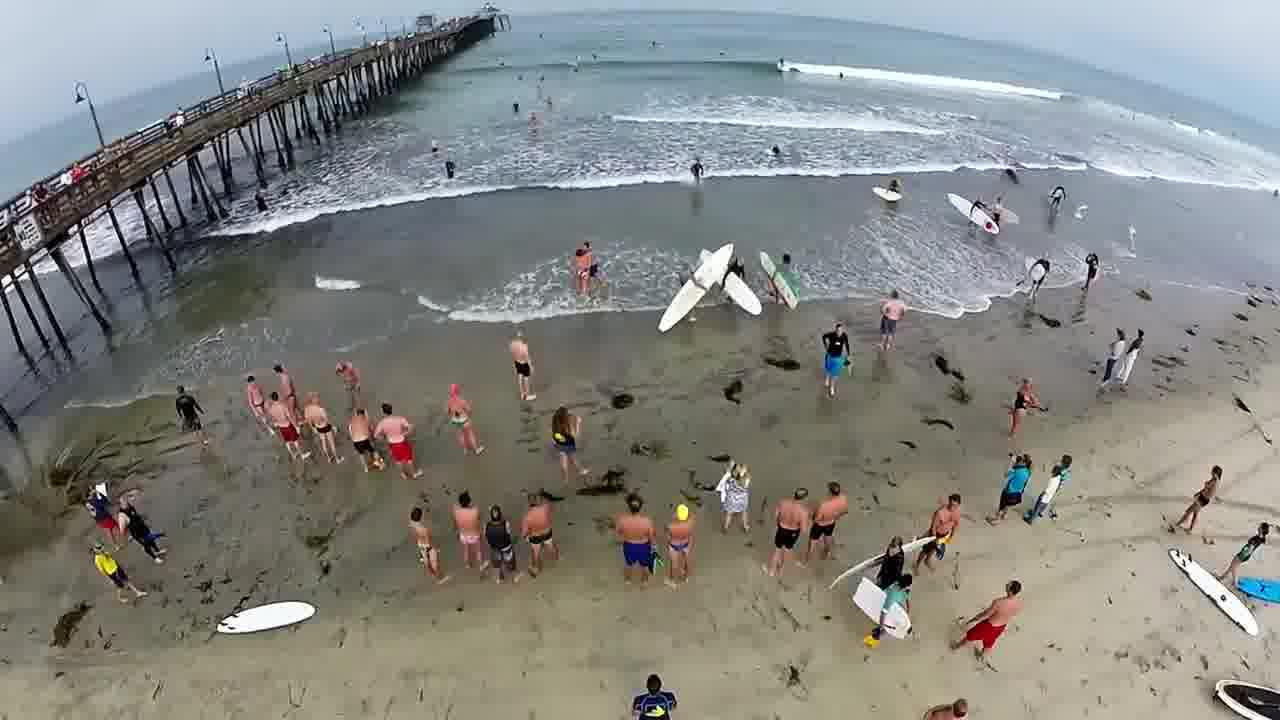human: (571, 232, 604, 285), (437, 151, 468, 191), (677, 144, 707, 179)
